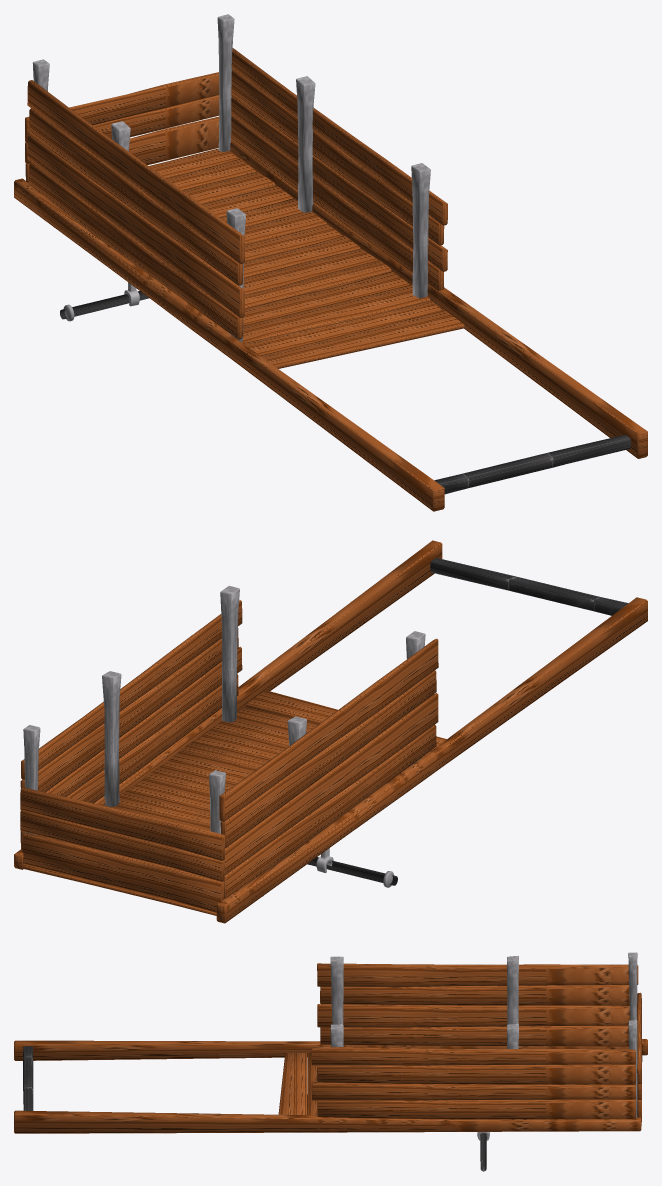
Rendered from Carretilla.obj.
3 views of the same model, one above another, from view 1: azimuth 30°, elevation 25°; view 2: azimuth 150°, elevation 25°; view 3: azimuth 270°, elevation 25° (orthographic). The views are drawn at different scales.
Parts seen in each view (by area): view 1: Horse_Horse.001; view 2: Horse_Horse.001; view 3: Horse_Horse.001.
Boxes of the visible parts, x1,y1,x2,y2 form: Horse_Horse.001: (14, 14, 647, 511); Horse_Horse.001: (14, 540, 647, 923); Horse_Horse.001: (14, 952, 647, 1171).
Bounding box in the file's own units: 13.44 × 6.47 × 29.32.
Materials: 1 (1 with a texture image).
